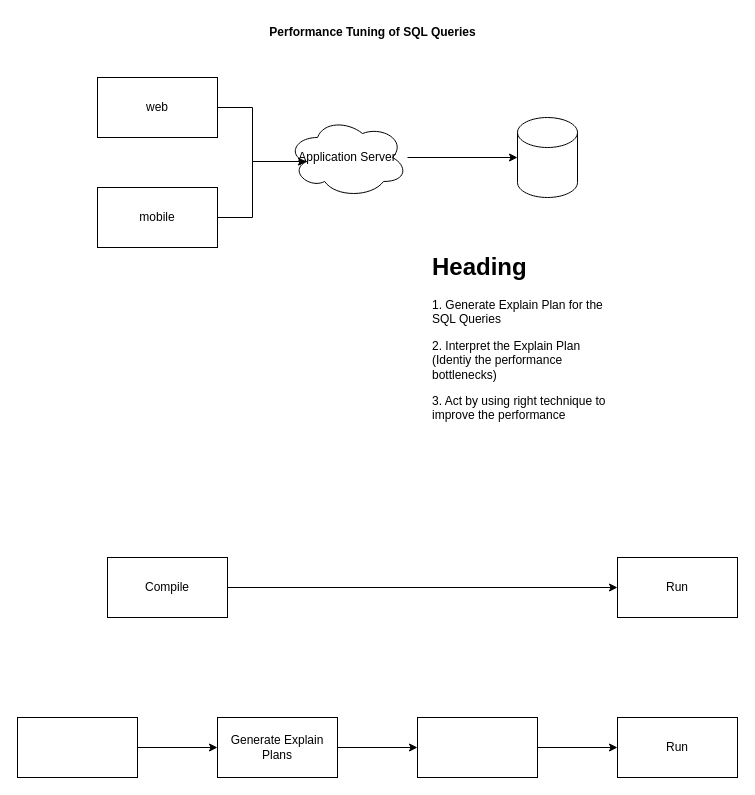
The diagram is 755 pixels wide and 795 high, and some of its shapes have lost their labels. The centre of each missing label's shape, as x and y in pixels:
"Choose Optimal Explain Plan" goes at pixel 477 747.
"RDBMS" goes at pixel 547 157.
"Syntax and Semantec Checks" goes at pixel 77 747.
